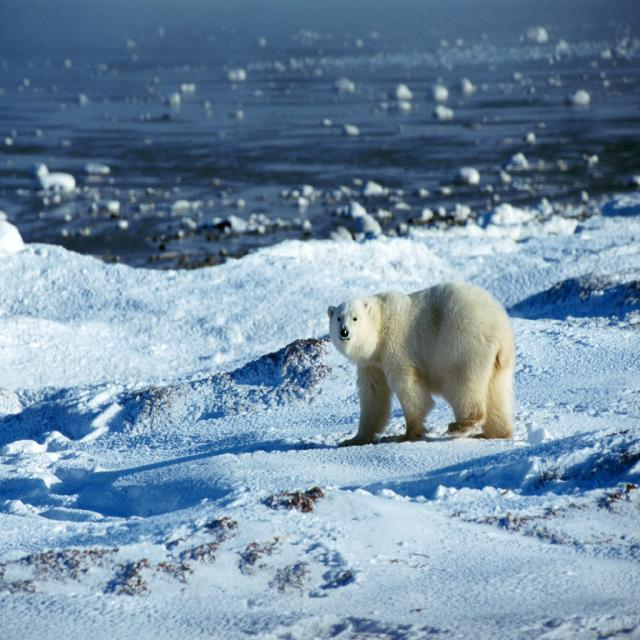Buffalo: (326, 279, 516, 446)
